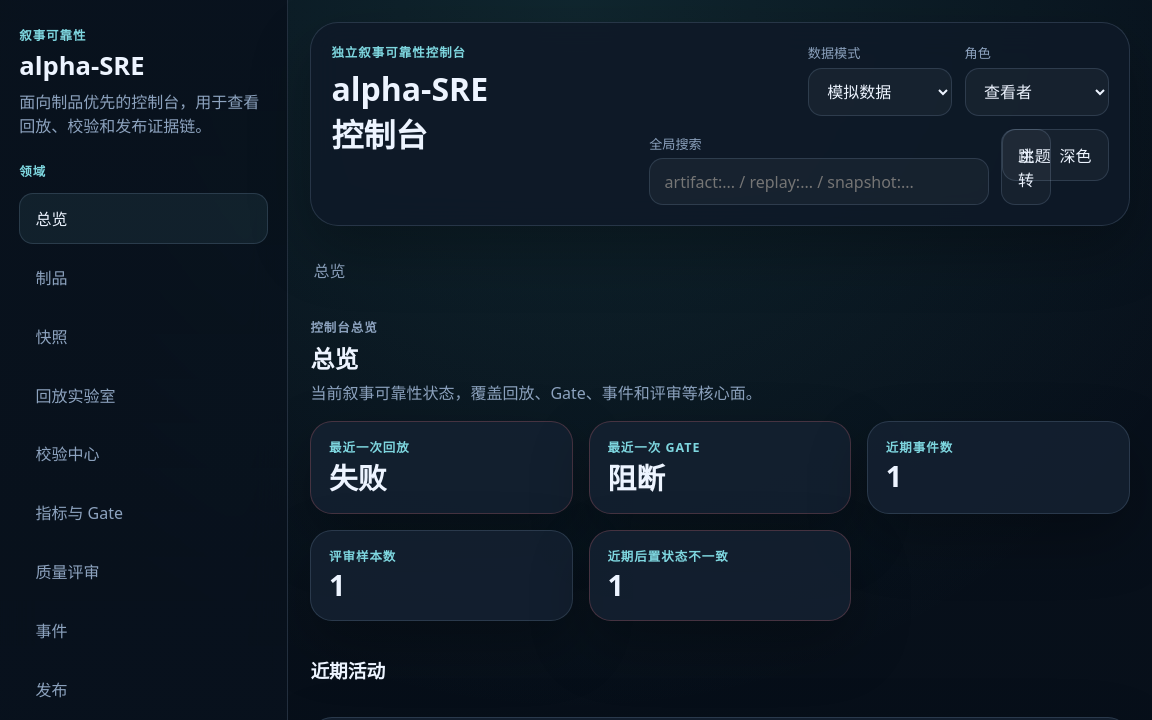
Test: release routes › shows release detail metadata and linked evidence routes
Click the link "发布" at (51, 690), box 35,679 -> 67,701
(page scrolled)
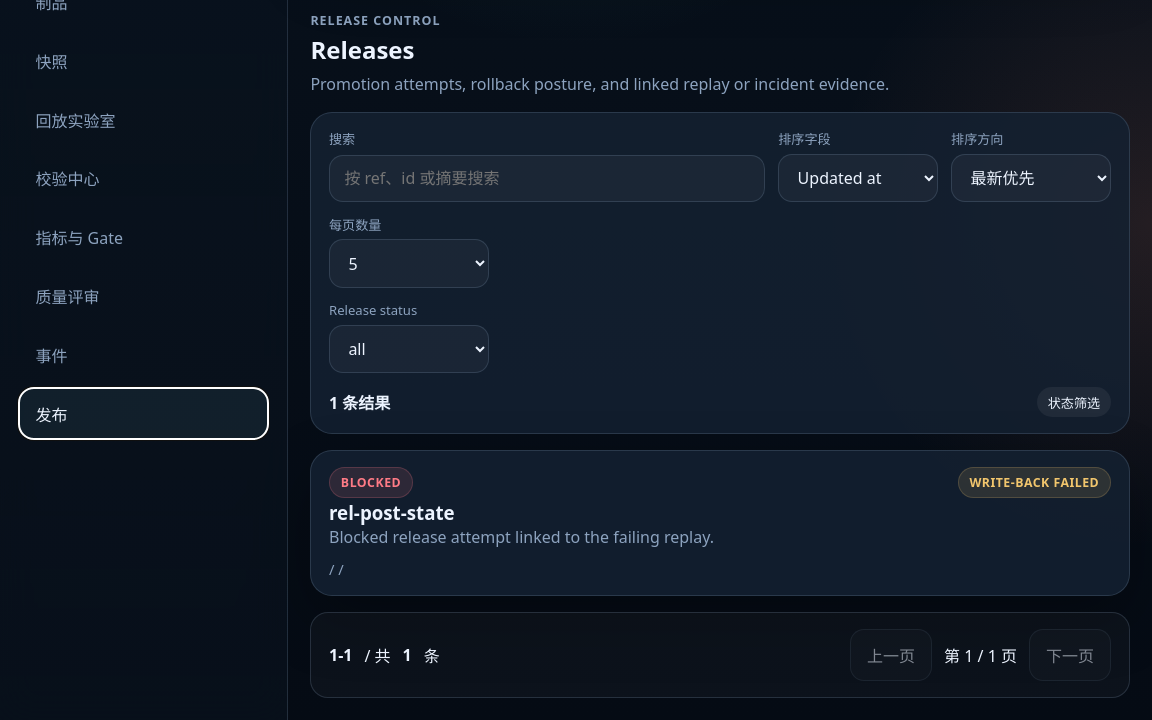
Click the link "rel-post-state" at (392, 512), box 329,500 -> 455,525
(page scrolled)
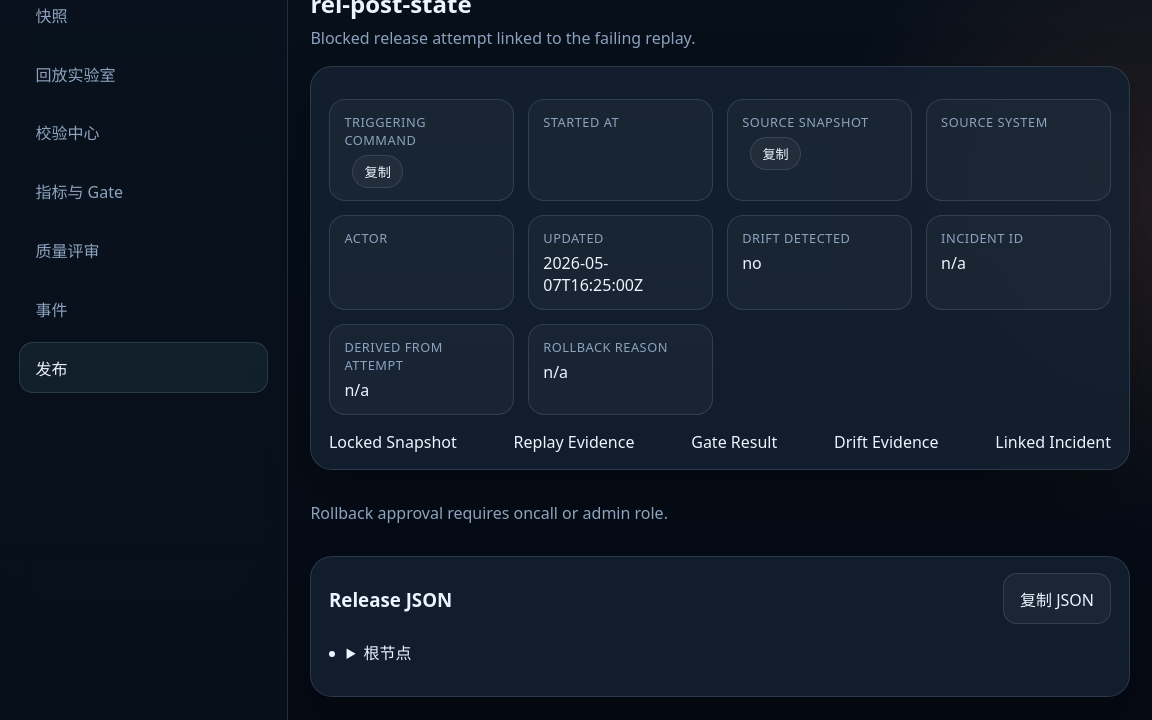
Expected: the button with aria-label "复制triggering command id" is shown, 352,155 -> 403,188
Expected: the text "2026-05-07T16:25:00Z" is shown, 543,252 -> 643,296
Expected: the link "Locked Snapshot" is shown, 329,431 -> 457,453
